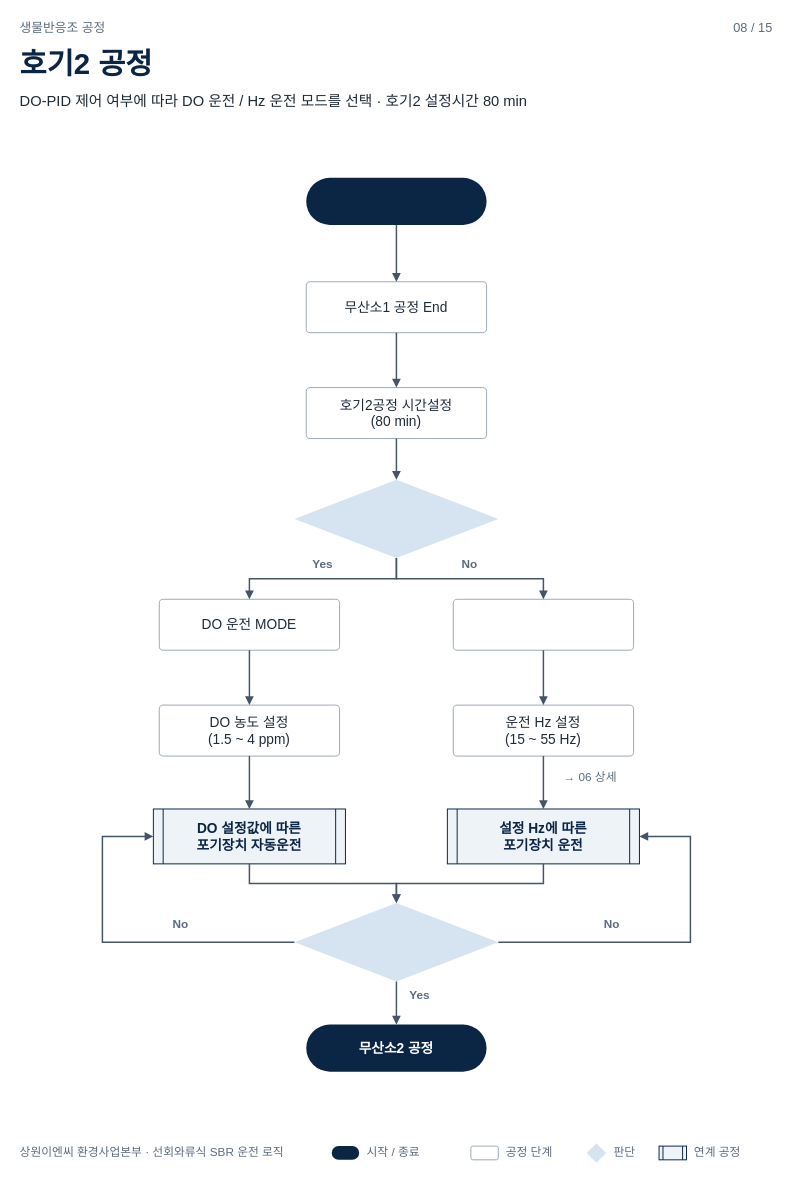
Some shapes in this 792 by 1183 pixel diagram are drawn without their labels. The centre of each missing label's shape, as x and y in pixels:
DO-PID 제어: (x=396, y=518)
Hz 운전 MODE: (x=543, y=624)
호기2 공정 Time Over: (x=396, y=942)
호기2 공정 시작: (x=396, y=200)
